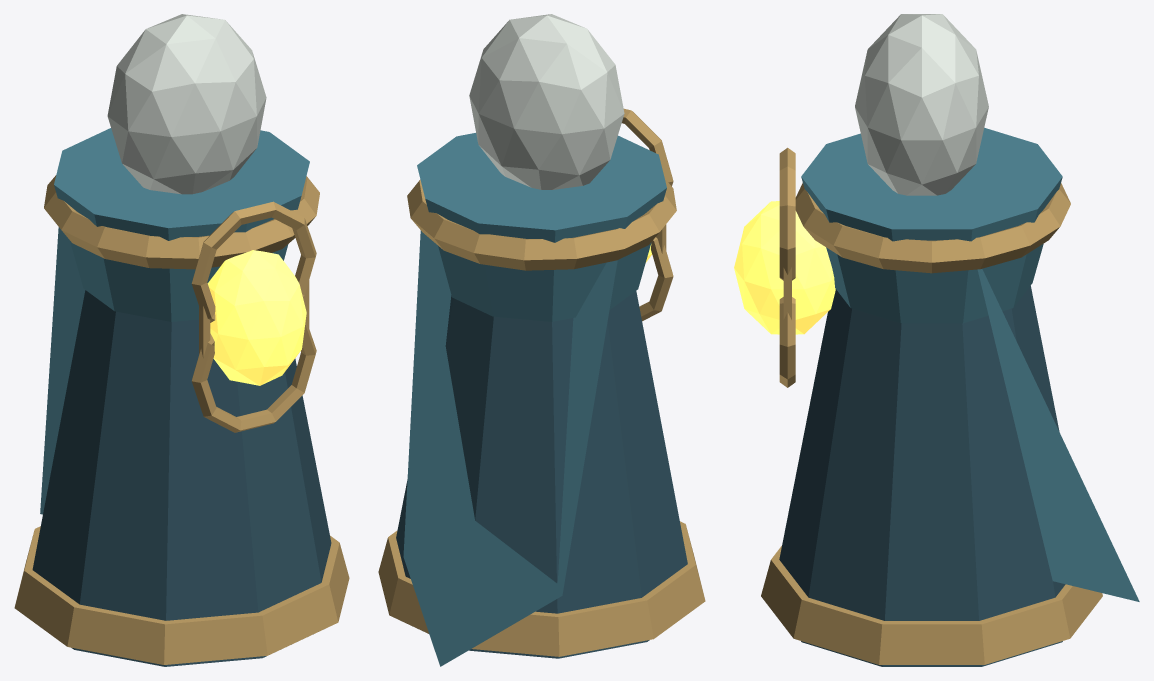
The model's file is archivist.glb.
3 views of the same model, side by side, from view 1: azimuth 30°, elevation 25°; view 2: azimuth 150°, elevation 25°; view 3: azimuth 270°, elevation 25° (orthographic). The views are drawn at different scales.
Parts seen in each view (by area): view 1: Eightfold robe, Porcelain mask, Shoulders, Brass hem, Lantern heart, Mantle, Memory Cape, Lantern cage upper, Lantern cage lower; view 2: Eightfold robe, Memory Cape, Shoulders, Porcelain mask, Brass hem, Mantle, Lantern cage lower, Lantern cage upper; view 3: Eightfold robe, Shoulders, Porcelain mask, Brass hem, Memory Cape, Mantle, Lantern heart, Lantern cage upper, Lantern cage lower.
Part boxes in pixels (x1,y1,x2,y2): Eightfold robe: (32,290,331,666); Porcelain mask: (107,14,266,194); Shoulders: (54,128,309,321); Brass hem: (14,526,349,664); Lantern heart: (207,250,306,385); Mantle: (44,175,319,269); Memory Cape: (40,227,85,514); Lantern cage upper: (191,201,316,322); Lantern cage lower: (191,322,316,432); Eightfold robe: (396,291,687,658); Memory Cape: (403,230,617,666); Shoulders: (417,133,666,321); Porcelain mask: (469,14,624,189); Brass hem: (378,521,705,656); Mantle: (407,179,676,270); Lantern cage lower: (639,237,673,321); Lantern cage upper: (622,108,673,186); Eightfold robe: (779,285,1065,666); Shoulders: (801,127,1062,323); Porcelain mask: (855,14,988,195); Brass hem: (761,546,1102,664); Memory Cape: (977,269,1139,601); Mantle: (795,183,1070,273); Lantern heart: (734,201,835,334); Lantern cage upper: (779,147,795,280); Lantern cage lower: (779,297,795,387).
Size of the model in its own units: 0.9701 by 1.93 by 1.21.
